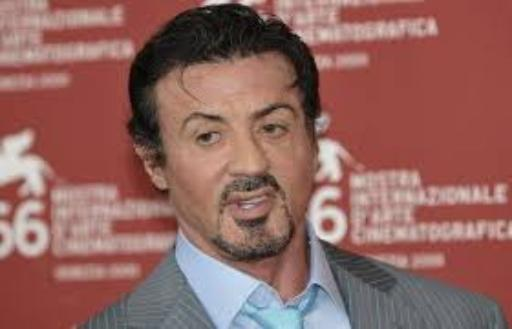left_eye: (257, 123, 294, 139)
left_lip_corner: (262, 187, 280, 202)
right_eye: (191, 130, 226, 147)
right_lip_corner: (218, 200, 232, 214)
